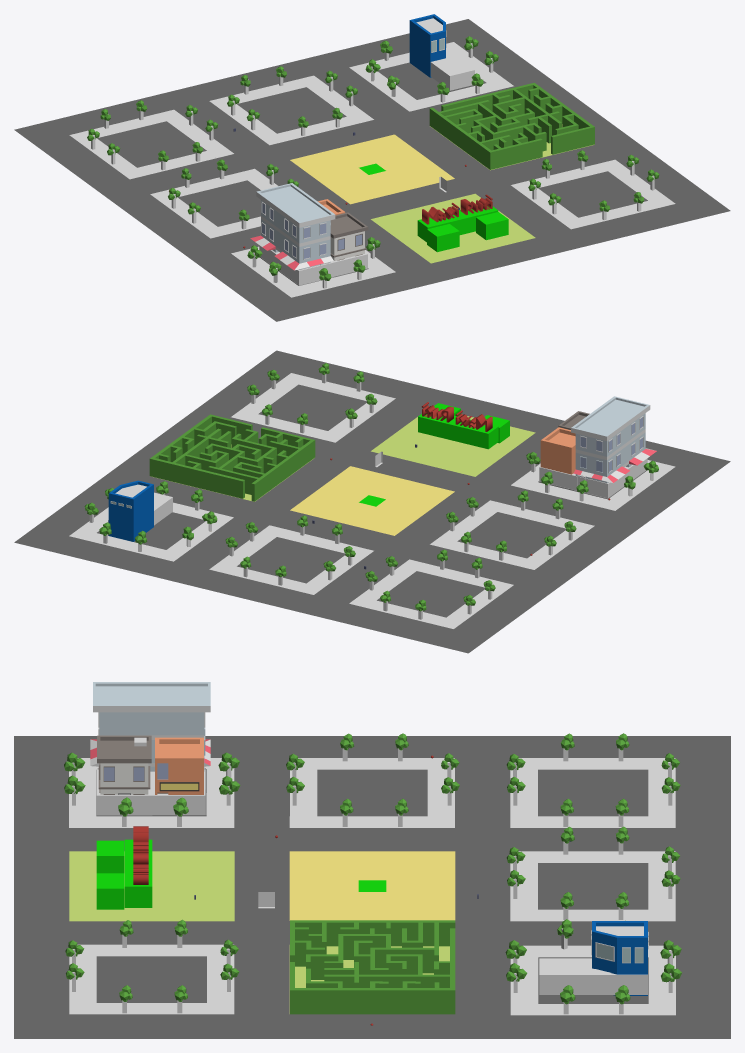
File: city.glb
The picture shows the model from 3 angles, top to bottom: view 1: azimuth 30°, elevation 25°; view 2: azimuth 150°, elevation 25°; view 3: azimuth 270°, elevation 25°; orthographic projection. The views are drawn at different scales.
Visible parts, largest first — view 1: Plane.012, maze, block-base, building_tw0_floors, grass, Cube.003, build_2_floors, body_block_7, body_block_police, body_9, Text, Plane.015 (+21 smaller); view 2: Plane.012, maze, block-base, building_tw0_floors, grass, Cube.003, body_9, bookStore, body_block_7, Text, Plane.031, Plane.015 (+18 smaller); view 3: Plane.012, maze, block-base, grass, building_tw0_floors, build_2_floors, body_block_police, Cube.003, bookStore, body_block_7, Plane.023, Plane.008 (+26 smaller).
Boxes of the visible parts, x1,y1,x2,y2 form: Plane.012: [14, 19, 730, 321]; maze: [429, 82, 594, 169]; block-base: [290, 134, 454, 204]; building_tw0_floors: [250, 183, 335, 285]; grass: [371, 193, 535, 263]; Cube.003: [409, 14, 446, 77]; build_2_floors: [330, 212, 368, 277]; body_block_7: [259, 245, 367, 285]; body_block_police: [430, 49, 474, 90]; body_9: [417, 206, 498, 242]; Text: [422, 194, 492, 224]; Plane.015: [608, 167, 675, 207]; Plane.012: [14, 350, 730, 653]; maze: [149, 414, 315, 501]; block-base: [290, 466, 454, 535]; building_tw0_floors: [571, 396, 656, 499]; grass: [371, 416, 535, 476]; Cube.003: [108, 480, 153, 541]; body_9: [418, 414, 498, 449]; bookStore: [538, 427, 575, 490]; body_block_7: [539, 458, 647, 497]; Text: [421, 402, 492, 431]; Plane.031: [440, 500, 507, 541]; Plane.015: [241, 373, 308, 413]; Plane.012: [14, 736, 730, 1038]; maze: [290, 920, 455, 1014]; block-base: [289, 851, 455, 920]; grass: [69, 851, 234, 921]; building_tw0_floors: [90, 682, 210, 792]; build_2_floors: [96, 735, 152, 816]; body_block_police: [539, 958, 647, 994]; Cube.003: [591, 921, 648, 995]; bookStore: [152, 737, 206, 816]; body_block_7: [96, 766, 205, 814]; Plane.023: [510, 909, 648, 921]; Plane.008: [96, 944, 234, 956].
Size of the model in its own units: 26 by 3.59 by 26.
